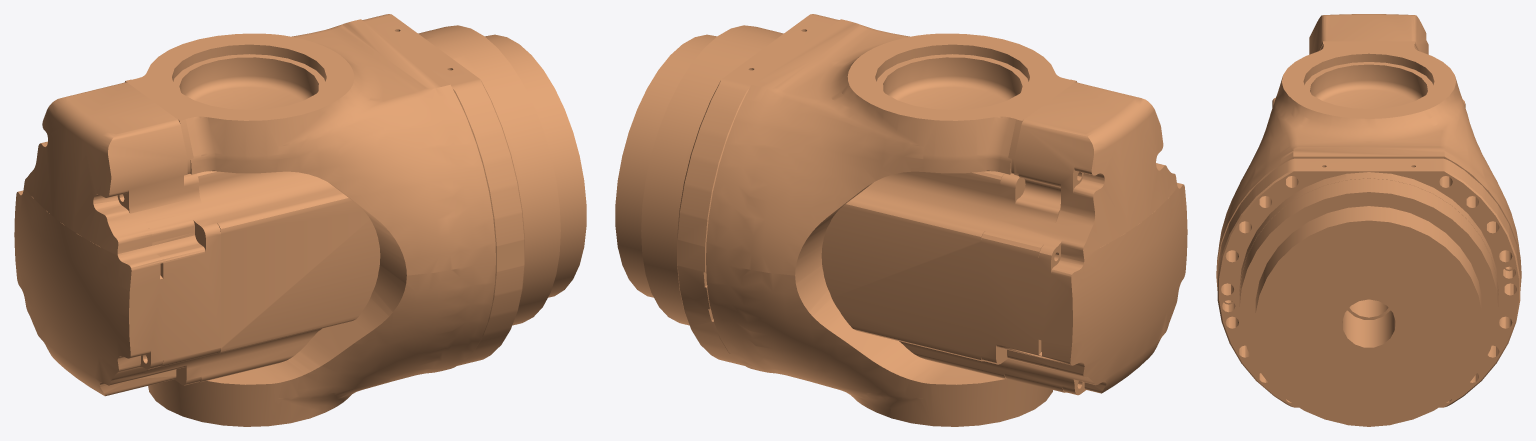
The picture shows the model from 3 angles, left to right: view 1: azimuth 30°, elevation 25°; view 2: azimuth 150°, elevation 25°; view 3: azimuth 270°, elevation 25°; orthographic projection. The views are drawn at different scales.
Parts seen in each view (by area): view 1: link_5; view 2: link_5; view 3: link_5.
Part boxes in pixels (x1,y1,x2,y2): link_5: (14,14,586,426); link_5: (615,14,1187,426); link_5: (1216,14,1521,426).
Bounding box in the file's own units: 0.302 × 0.192 × 0.205.
